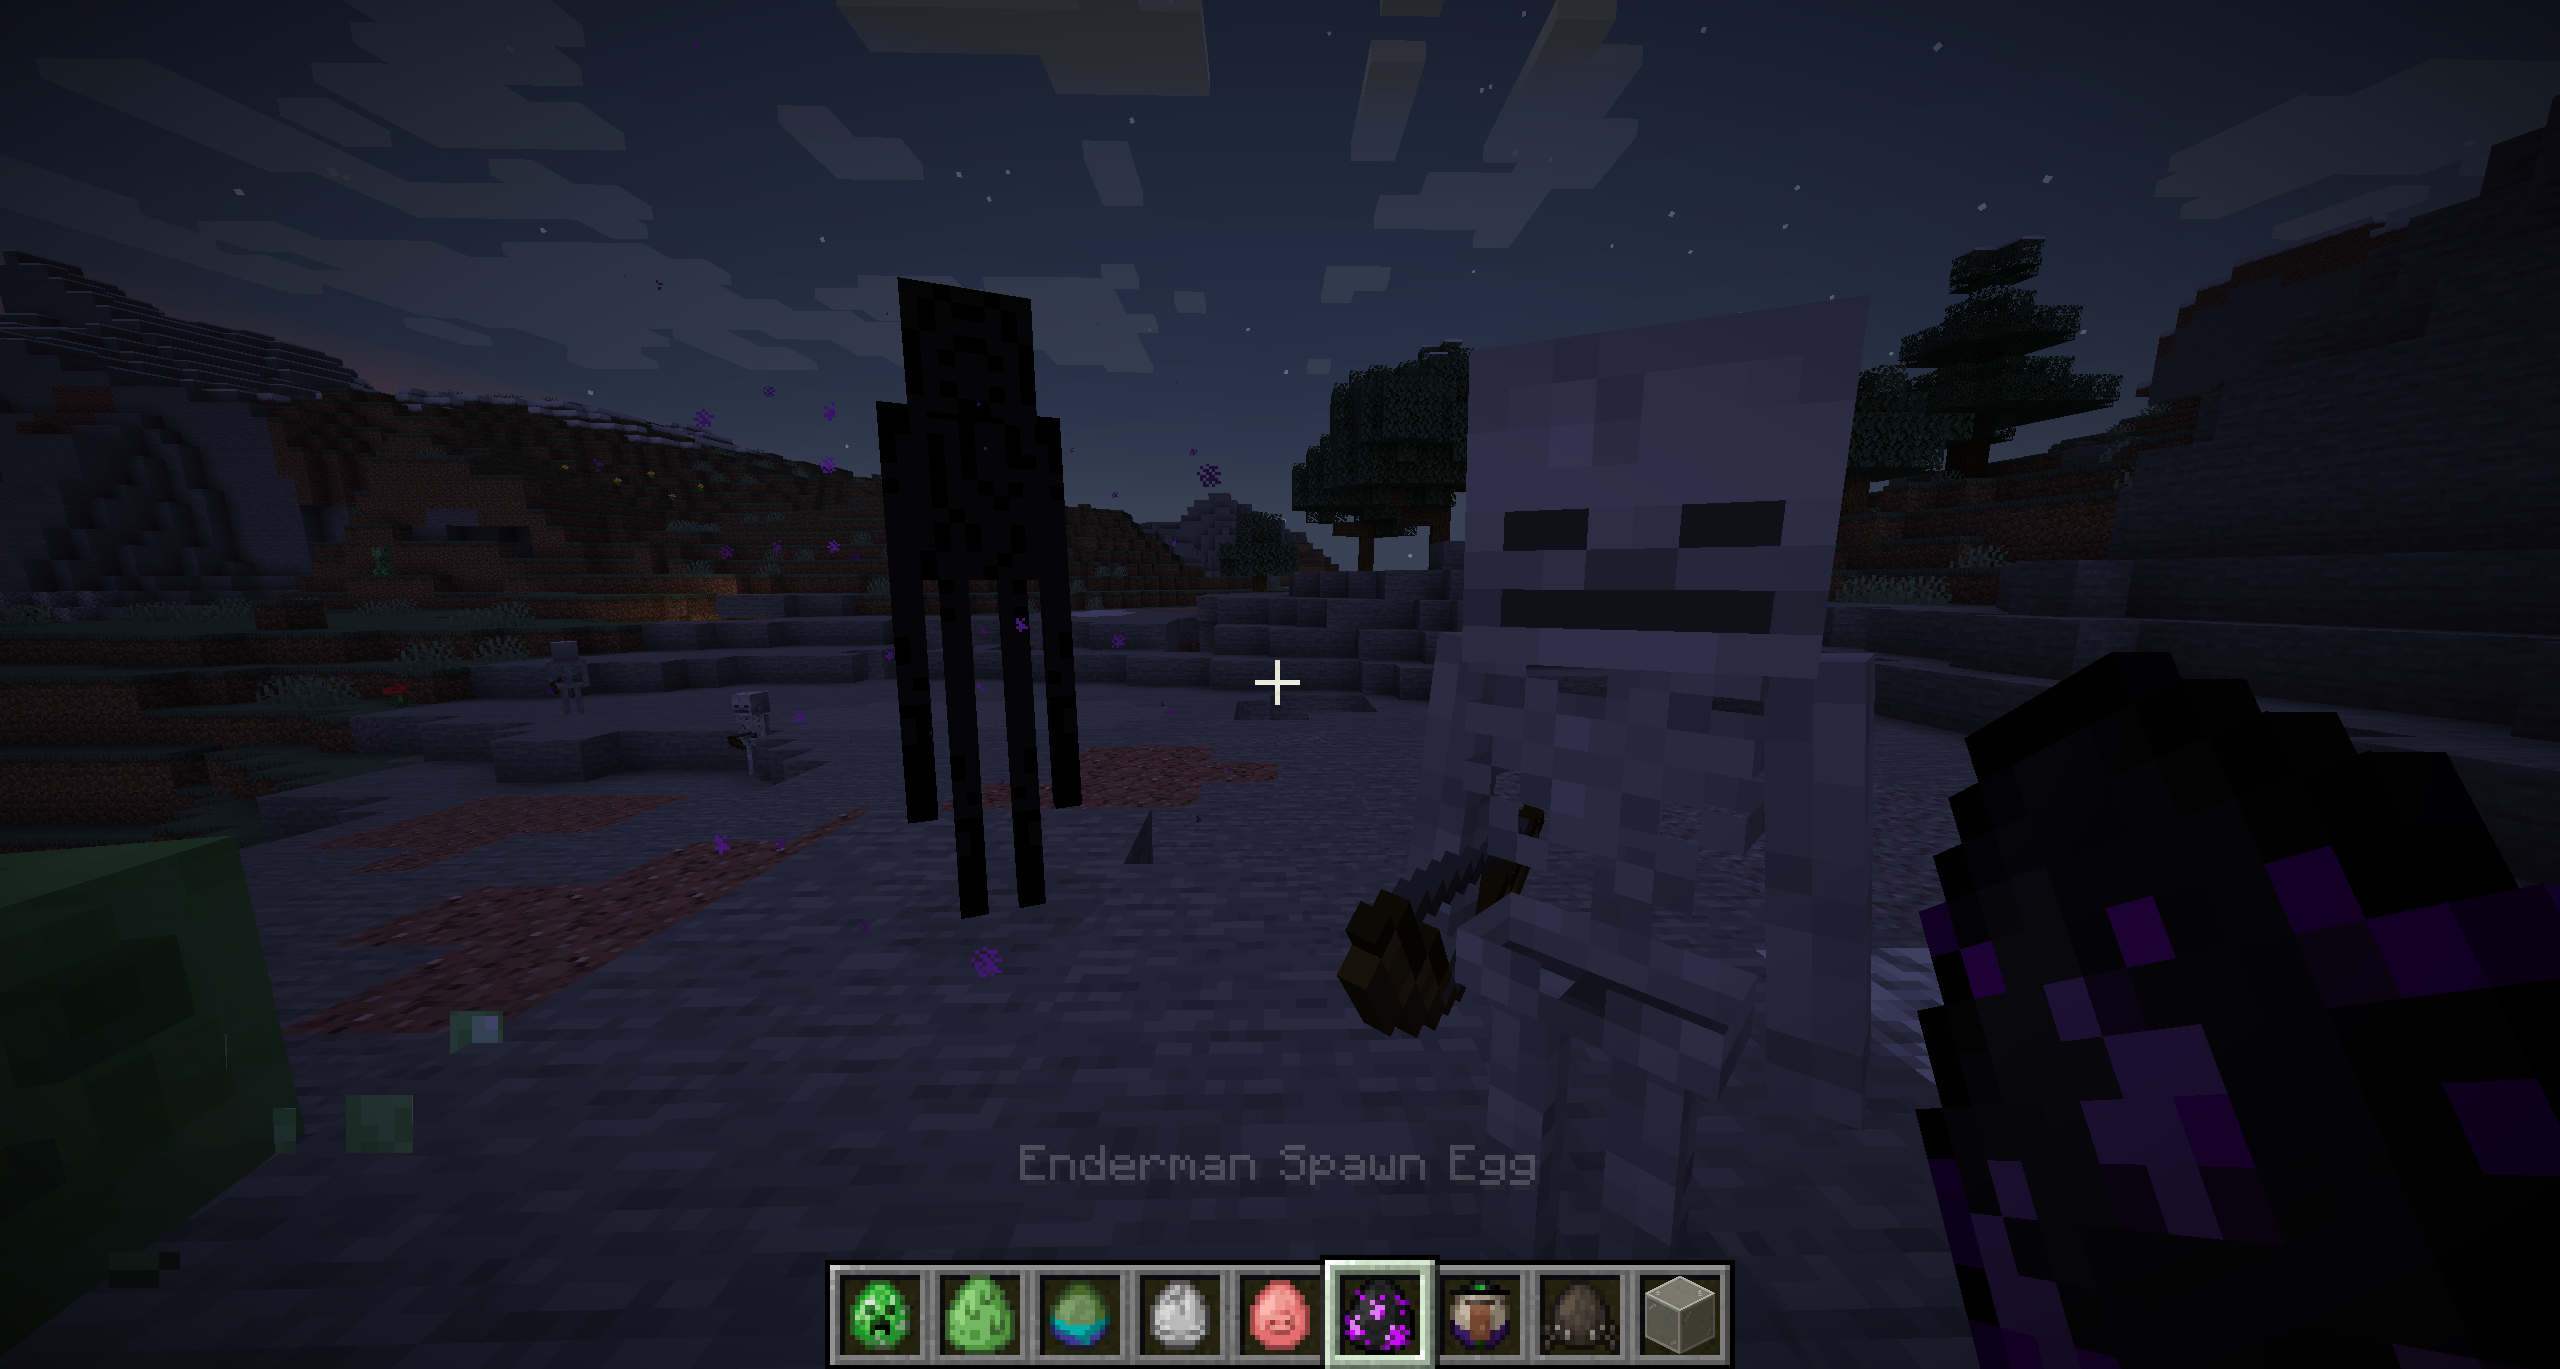endermens: (848, 278, 1090, 914)
slimes: (0, 834, 335, 1276)
squelettes: (1434, 330, 1883, 1281), (542, 643, 589, 724), (726, 689, 774, 768)
